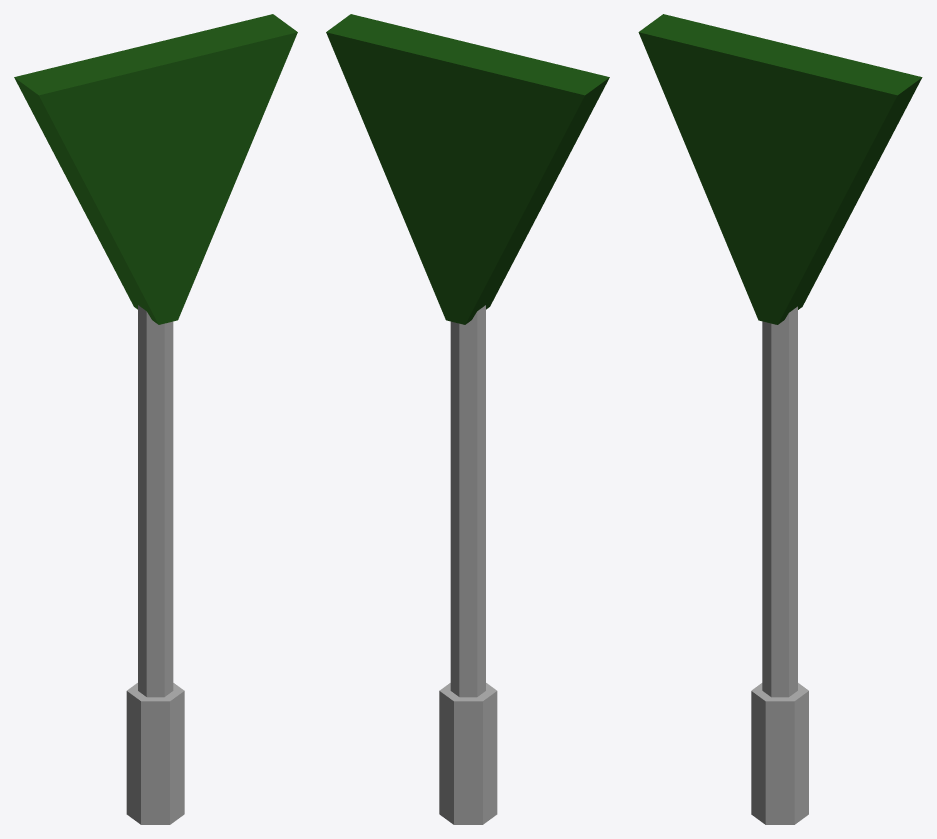
File: SignBoard_05.fbx
The picture shows the model from 3 angles, left to right: view 1: azimuth 30°, elevation 25°; view 2: azimuth 150°, elevation 25°; view 3: azimuth 330°, elevation 25°; orthographic projection.
Visible parts, largest first — view 1: SignBoard_05; view 2: SignBoard_05; view 3: SignBoard_05.
Part boxes in pixels (x1,y1,x2,y2): SignBoard_05: (14,14,297,824); SignBoard_05: (326,14,609,824); SignBoard_05: (638,14,922,824).
Bounding box in the file's own units: 570 × 1597 × 110.
